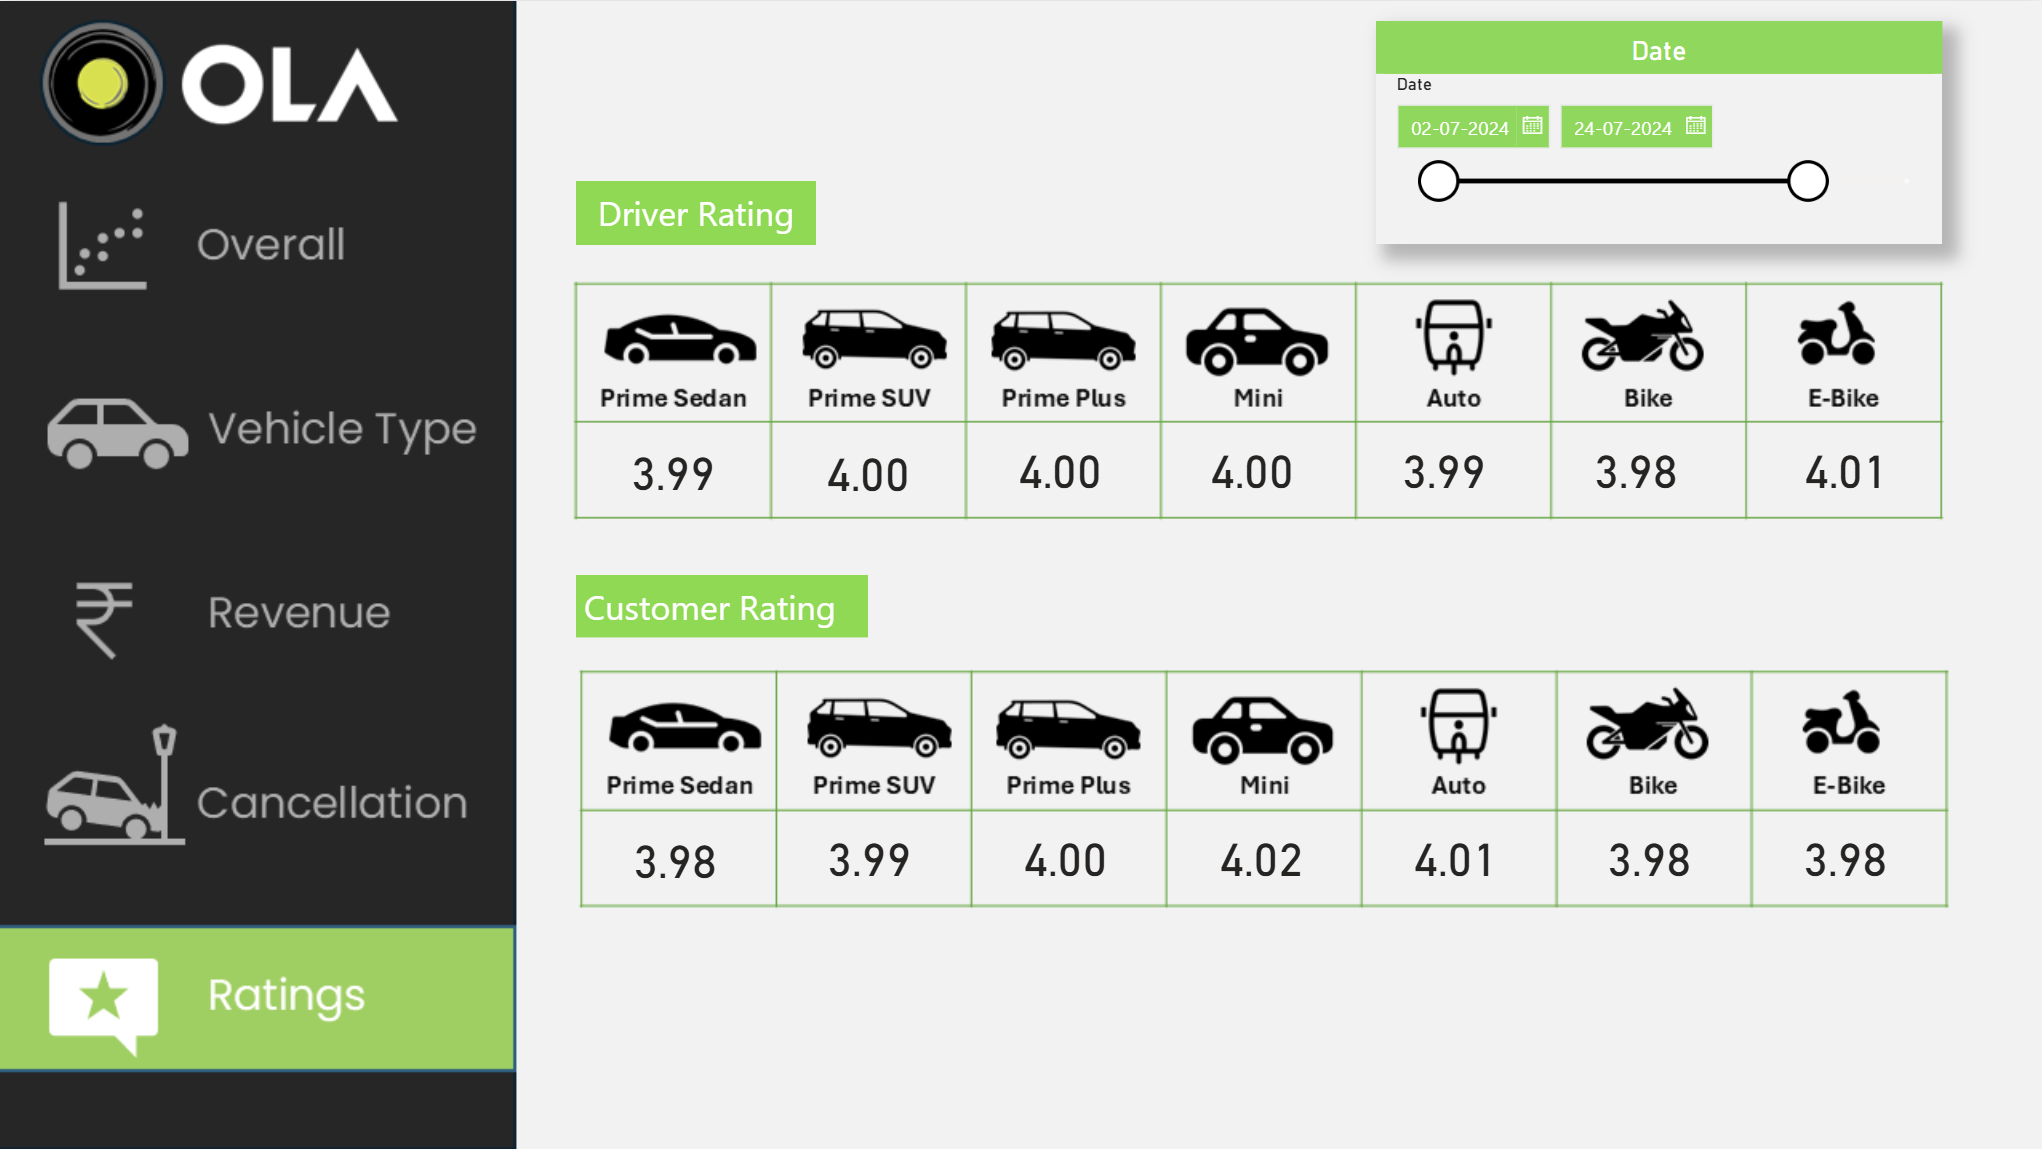

Layout of this report page (visuals, bound fields, positions):
{"tool":"powerbi","page":{"name":"rating","canvas":[1280,720],"ordinal":4},"visuals":[{"type":"actionButton","box":[0,209.6,323.3,91.4],"z":0},{"type":"actionButton","box":[0,332,323,92.7],"z":1000},{"type":"actionButton","box":[0,448.6,323,92.7],"z":2000},{"type":"actionButton","box":[0,104.7,323,83.7],"z":3000},{"type":"card","fields":{"Values":["Avg(July.Driver_Ratings)"]},"box":[361.4,265,121.4,57.1],"z":4000},{"type":"card","fields":{"Values":["Avg(July.Driver_Ratings)"]},"box":[483.9,266.1,120,56.1],"z":5000},{"type":"card","fields":{"Values":["Avg(July.Driver_Ratings)"]},"box":[603.3,265,120,55],"z":6000},{"type":"card","fields":{"Values":["Avg(July.Driver_Ratings)"]},"box":[723.3,265,120,55],"z":7000},{"type":"card","fields":{"Values":["Avg(July.Driver_Ratings)"]},"box":[843.3,265,120,55],"z":8000},{"type":"card","fields":{"Values":["Avg(July.Driver_Ratings)"]},"box":[963.3,265,120,55],"z":9000},{"type":"card","fields":{"Values":["Avg(July.Driver_Ratings)"]},"box":[1095,265,120,55],"z":10000},{"type":"textbox","box":[361.5,112.3,150,40],"z":11000},{"type":"textbox","box":[361.5,358.5,182.3,39.2],"z":12000},{"type":"card","fields":{"Values":["Avg(July.Customer_Rating)"]},"box":[362.3,506.9,121.5,56.9],"z":13000},{"type":"card","fields":{"Values":["Avg(July.Customer_Rating)"]},"box":[850,506.7,121.7,56.7],"z":14000},{"type":"card","fields":{"Values":["Avg(July.Customer_Rating)"]},"box":[971.7,506.7,121.7,56.7],"z":15000},{"type":"card","fields":{"Values":["Avg(July.Customer_Rating)"]},"box":[1093.3,506.7,121.7,56.7],"z":16000},{"type":"card","fields":{"Values":["Avg(July.Customer_Rating)"]},"box":[483.3,506.7,121.7,56.7],"z":17000},{"type":"card","fields":{"Values":["Avg(July.Customer_Rating)"]},"box":[728.3,506.7,121.7,56.7],"z":18000},{"type":"card","fields":{"Values":["Avg(July.Customer_Rating)"]},"box":[606.7,506.7,121.7,56.7],"z":19000},{"type":"slicer","title":"Date","fields":{"Values":["July.Date"]},"box":[861.5,12.8,353.8,139.7],"z":20000}]}

Visuals, with their boxes in screenshot pixels (x1, y1, x2, y2), scaled from the page's 1280x720 canvas onto the 2042x1149 screenshot:
actionButton: <region>0, 334, 516, 480</region>
actionButton: <region>0, 530, 515, 678</region>
actionButton: <region>0, 716, 515, 864</region>
actionButton: <region>0, 167, 515, 301</region>
card - Avg(July.Driver_Ratings): <region>577, 423, 770, 514</region>
card - Avg(July.Driver_Ratings): <region>772, 425, 963, 514</region>
card - Avg(July.Driver_Ratings): <region>962, 423, 1154, 511</region>
card - Avg(July.Driver_Ratings): <region>1154, 423, 1345, 511</region>
card - Avg(July.Driver_Ratings): <region>1345, 423, 1537, 511</region>
card - Avg(July.Driver_Ratings): <region>1537, 423, 1728, 511</region>
card - Avg(July.Driver_Ratings): <region>1747, 423, 1938, 511</region>
textbox: <region>577, 179, 816, 243</region>
textbox: <region>577, 572, 868, 635</region>
card - Avg(July.Customer_Rating): <region>578, 809, 772, 900</region>
card - Avg(July.Customer_Rating): <region>1356, 809, 1550, 899</region>
card - Avg(July.Customer_Rating): <region>1550, 809, 1744, 899</region>
card - Avg(July.Customer_Rating): <region>1744, 809, 1938, 899</region>
card - Avg(July.Customer_Rating): <region>771, 809, 965, 899</region>
card - Avg(July.Customer_Rating): <region>1162, 809, 1356, 899</region>
card - Avg(July.Customer_Rating): <region>968, 809, 1162, 899</region>
"Date" slicer: <region>1374, 20, 1939, 243</region>
